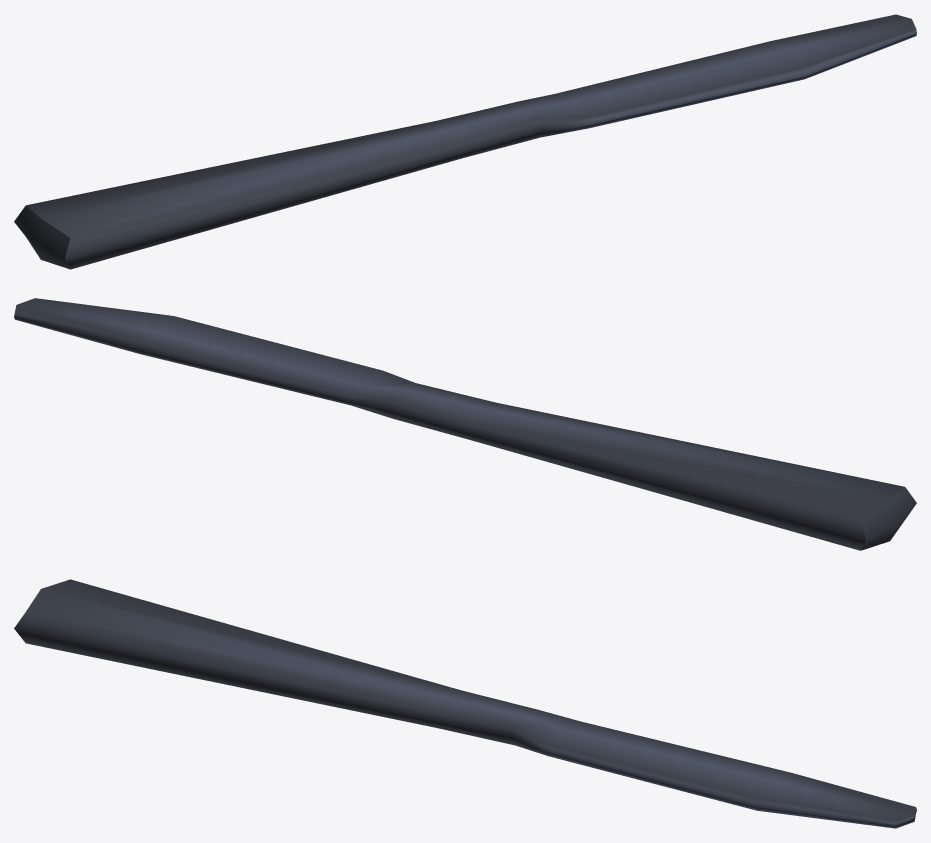
File: knife.fbx
3 views of the same model, one above another, from view 1: azimuth 30°, elevation 25°; view 2: azimuth 150°, elevation 25°; view 3: azimuth 330°, elevation 25° (orthographic).
Parts seen in each view (by area): view 1: pCube9; view 2: pCube9; view 3: pCube9.
Boxes of the visible parts, x1,y1,x2,y2 form: pCube9: (14,14,916,269); pCube9: (14,298,916,550); pCube9: (14,579,916,828).
Bounding box in the file's own units: 335 × 15.01 × 33.41.
